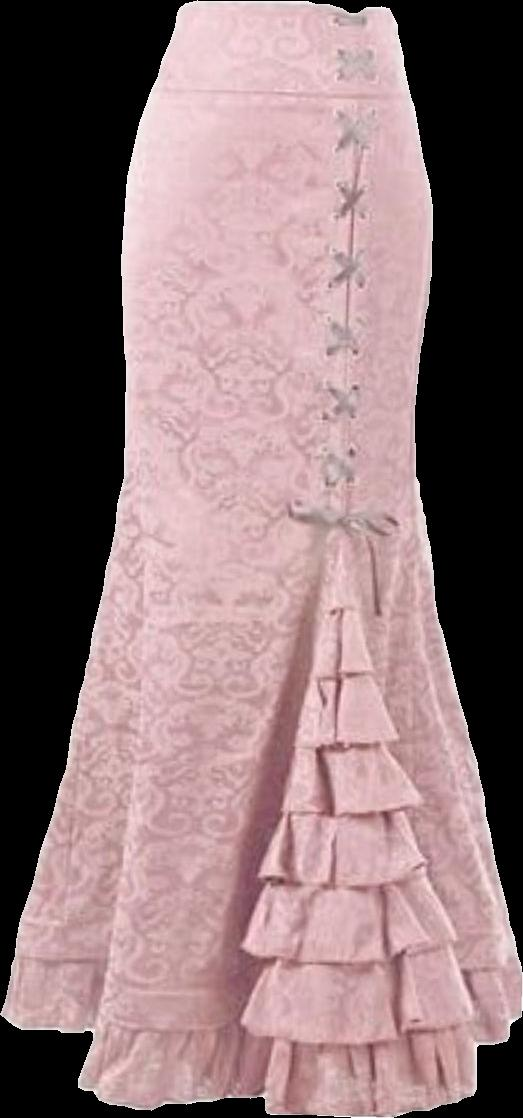Hemline: (10, 534, 522, 1044), (0, 1007, 522, 1117)
Waistline: (148, 80, 412, 106), (167, 0, 390, 22)
